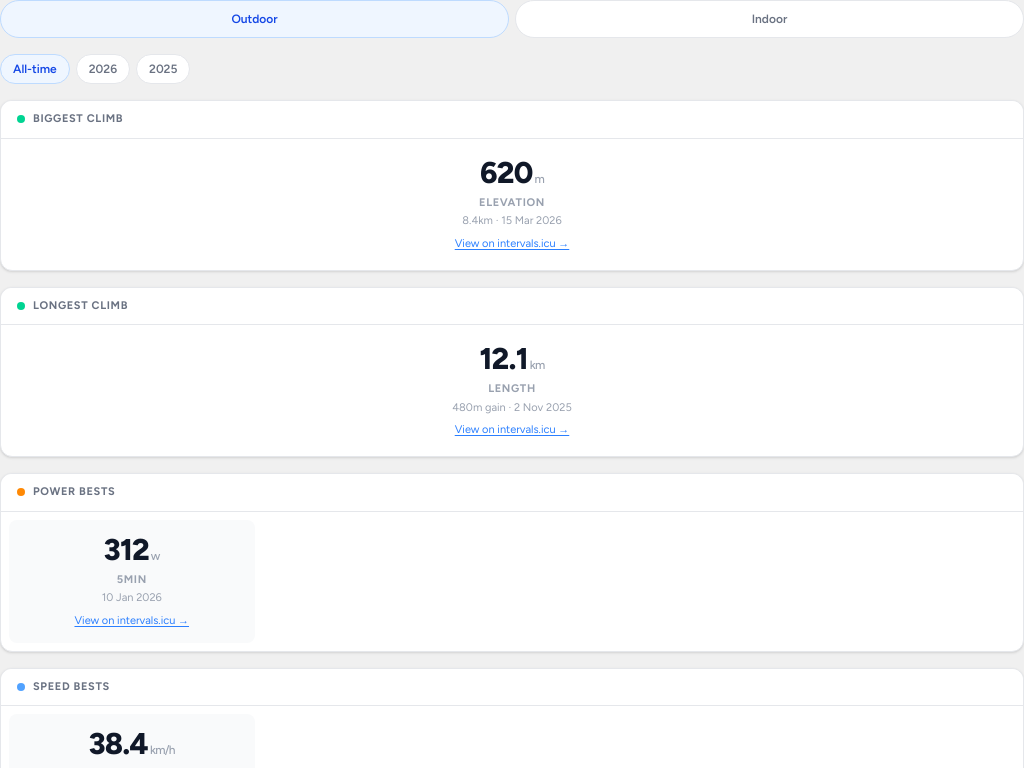
Test: AllTimeBestsTab › switching to Indoor shows indoor bests and resets the period back to All-time
This screenshot has width=1024, height=768.
Expected: the text "620" is shown, [480,154,532,190]
What coordinates should you click on to do the following:
click the button "2025"
I would click on:
 (163, 69)
Its box is [136,54,190,84].
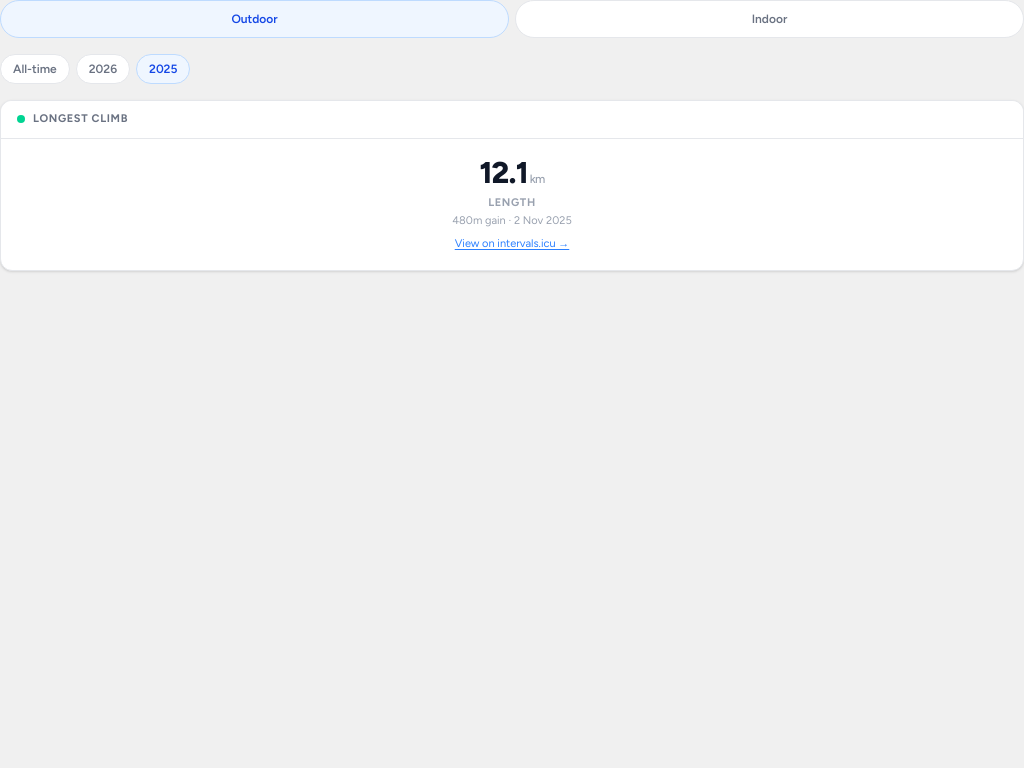
Expected: the text "12.1" is shown, [480,154,528,190]
What coordinates should you click on to do the following:
click the button "Indoor"
I would click on:
 (770, 19)
Its box is [515,0,1023,38].
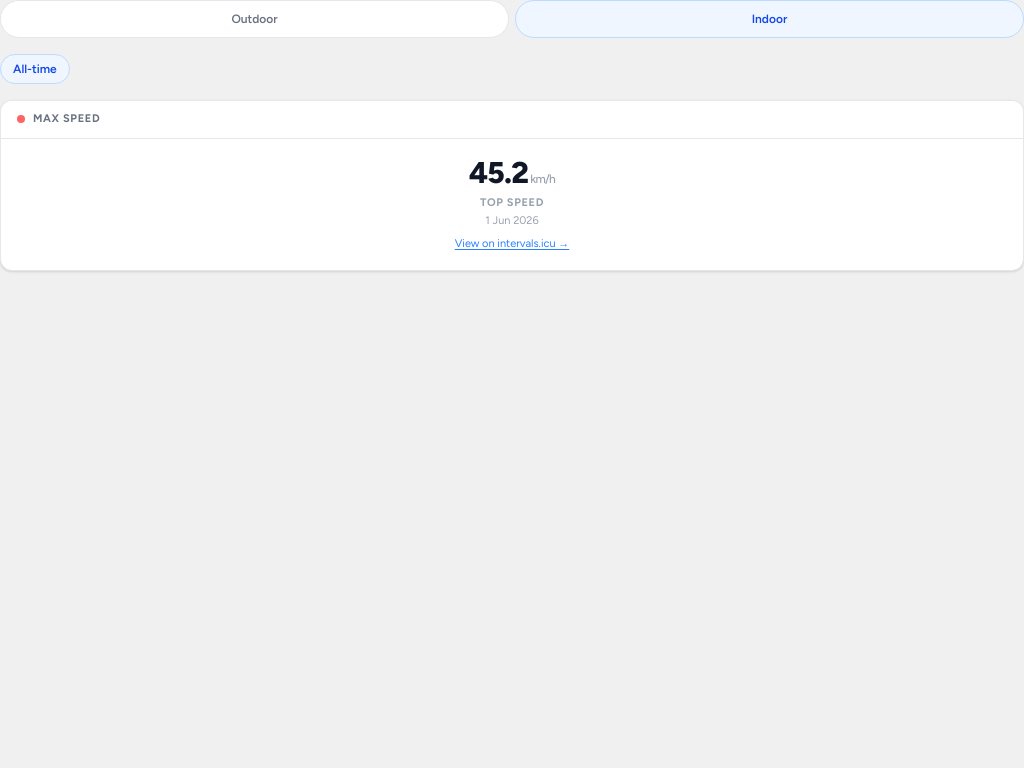
Now the text "12.1" is gone
Now the text "45.2" is shown, box [469,154,528,190]
Now the button "2025" is gone
